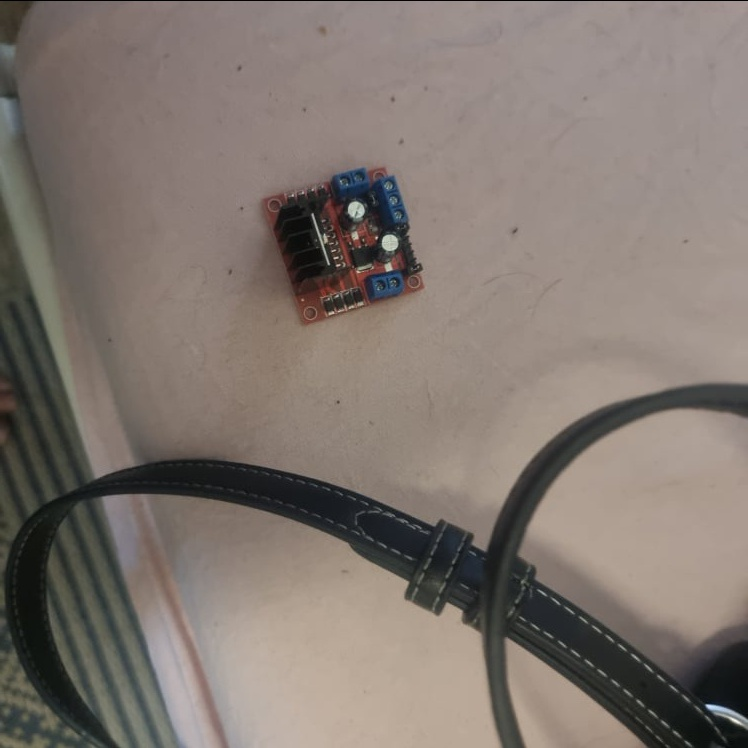MOTOR: (259, 163, 426, 327)
